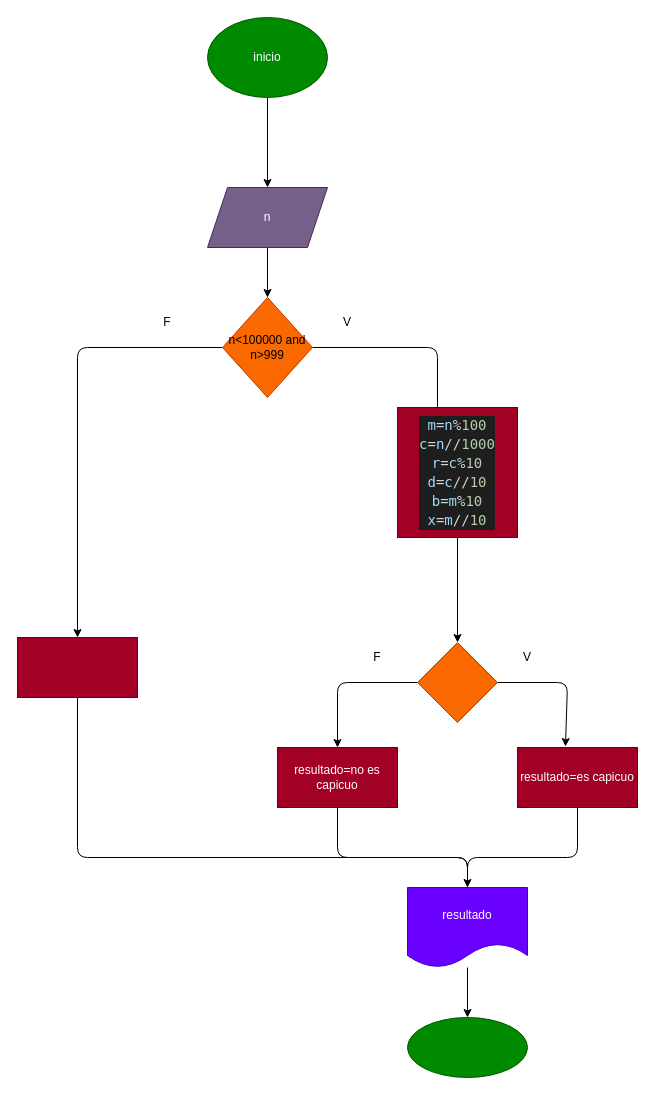
The diagram is 655 pixels wide and 1095 high, and some of its shapes have lost their labels. The centre of each missing label's shape, as x and y in pixels:
fin: point 467,1047
resultado= no es un numero de 5 digitos: point 77,667
x==r and b==d: point 457,682
